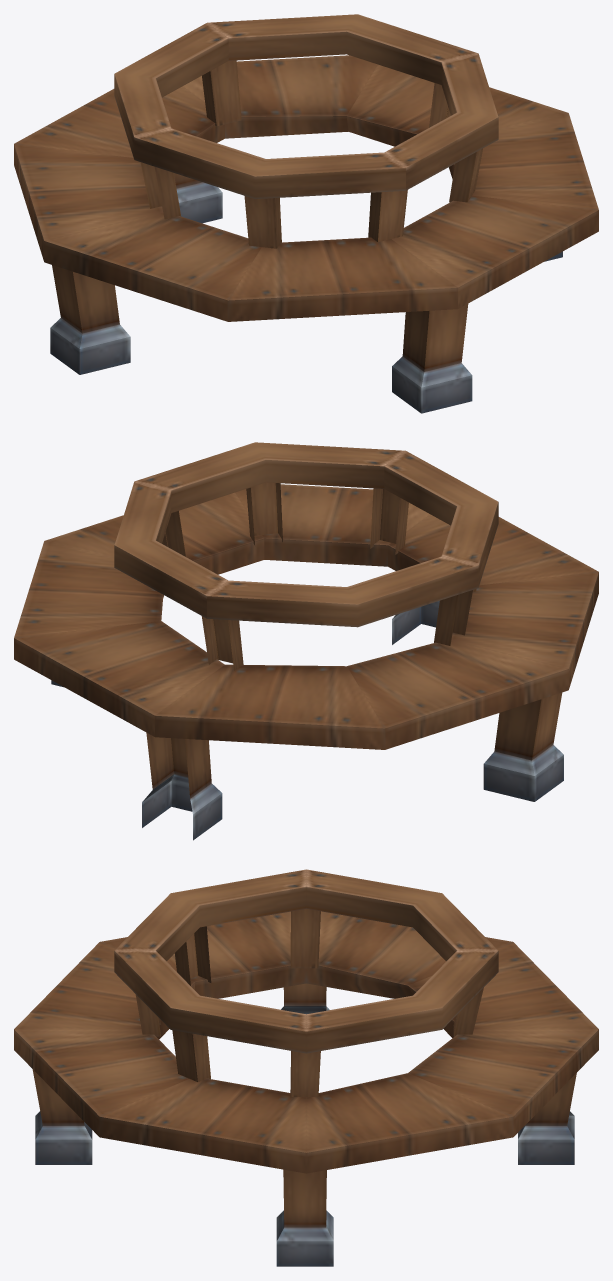
File: bench_1.FBX
3 views of the same model, one above another, from view 1: azimuth 30°, elevation 25°; view 2: azimuth 150°, elevation 25°; view 3: azimuth 270°, elevation 25° (orthographic). The views are drawn at different scales.
Visible parts, largest first — view 1: bench_1; view 2: bench_1; view 3: bench_1.
Part boxes in pixels (box(x1,y1,x2,y2)): bench_1: box(14, 14, 598, 413); bench_1: box(14, 442, 598, 840); bench_1: box(14, 869, 598, 1266).
Bounding box in the file's own units: 40.08 × 40.08 × 15.29.
